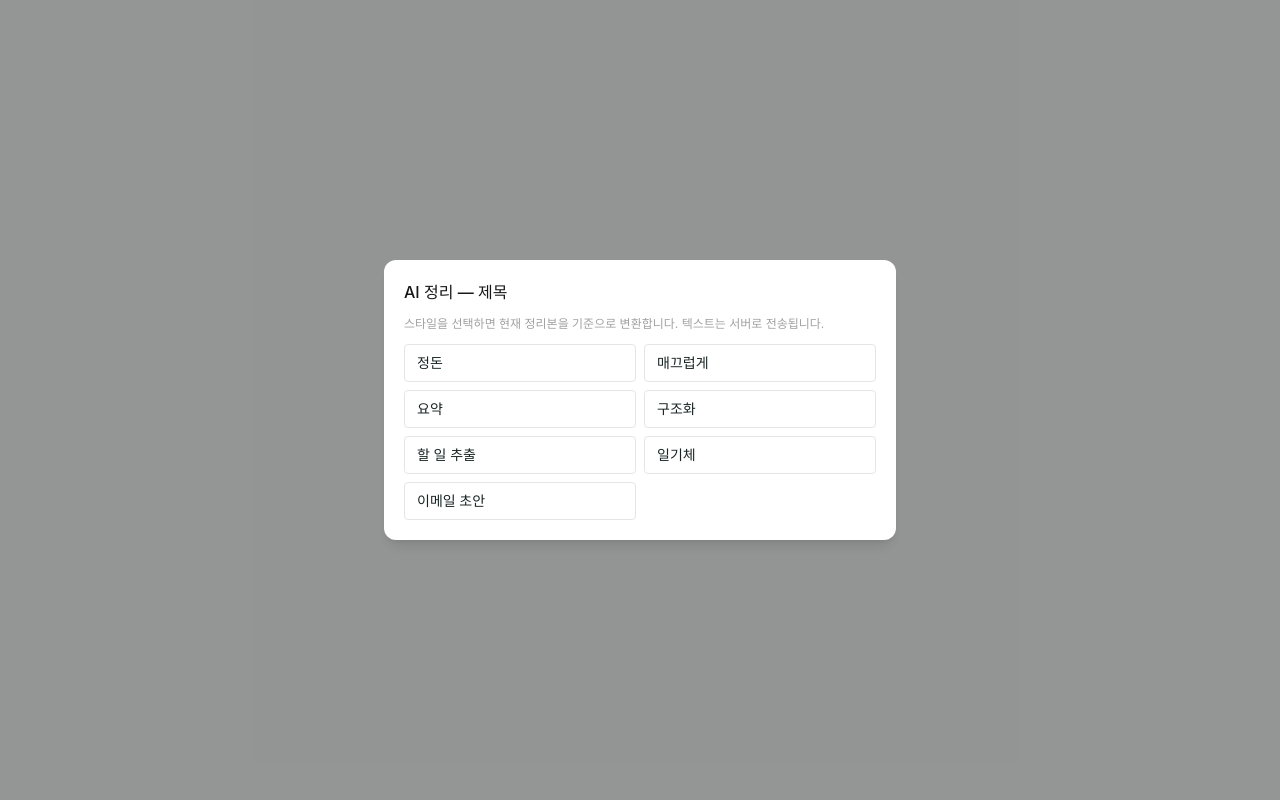
Test case: TransformDialog › truncated:true 응답이면 미리보기에 절단 안내를 표시한다
This screenshot has width=1280, height=800.
Click the button "요약": (520, 409) [404,390,636,428]
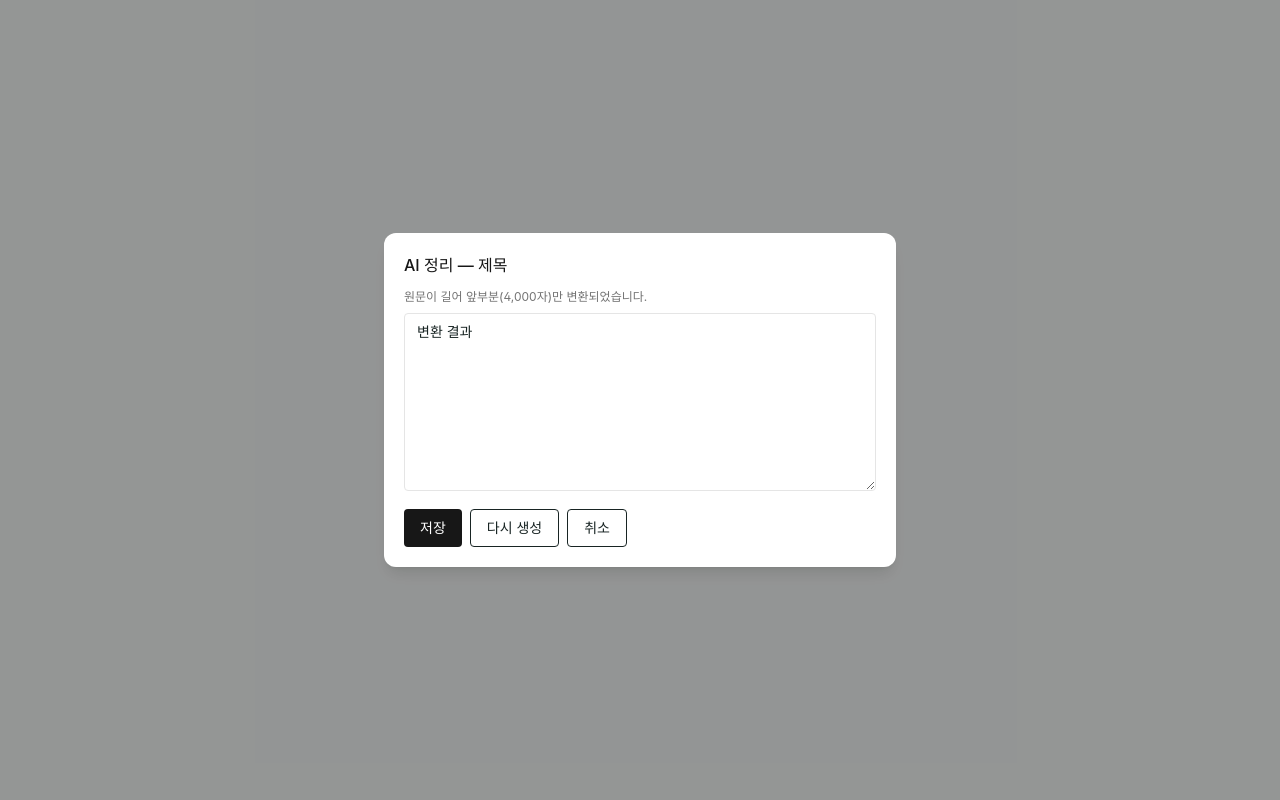
Expected: the text "원문이 길어 앞부분(4,000자)만 변환되었습니다." is shown, [404,289,647,304]
